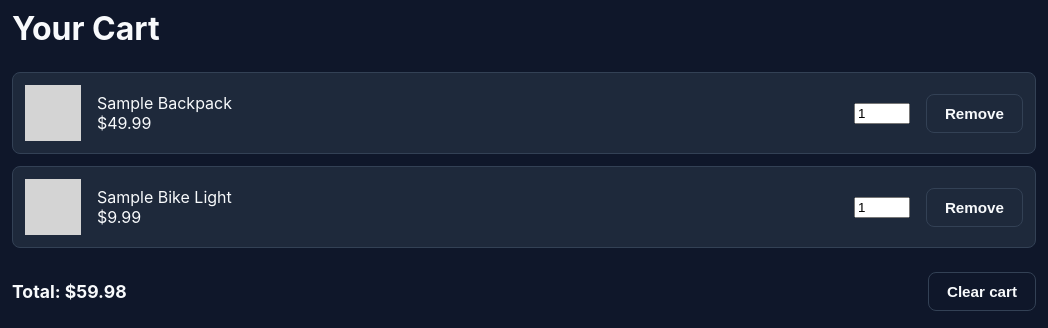
CartPage › clearing the cart removes all items
Expected: the element with test id "cart-list" is shown, [12,72,1036,248]
Click the button "Clear cart" at {"x": 982, "y": 292}, box [928,272,1036,311]
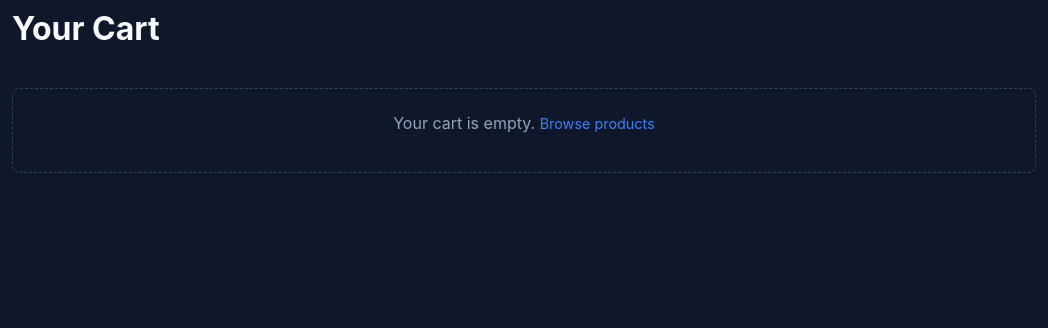
Result: the element with test id "empty-cart" is shown at [12,88,1036,173]
